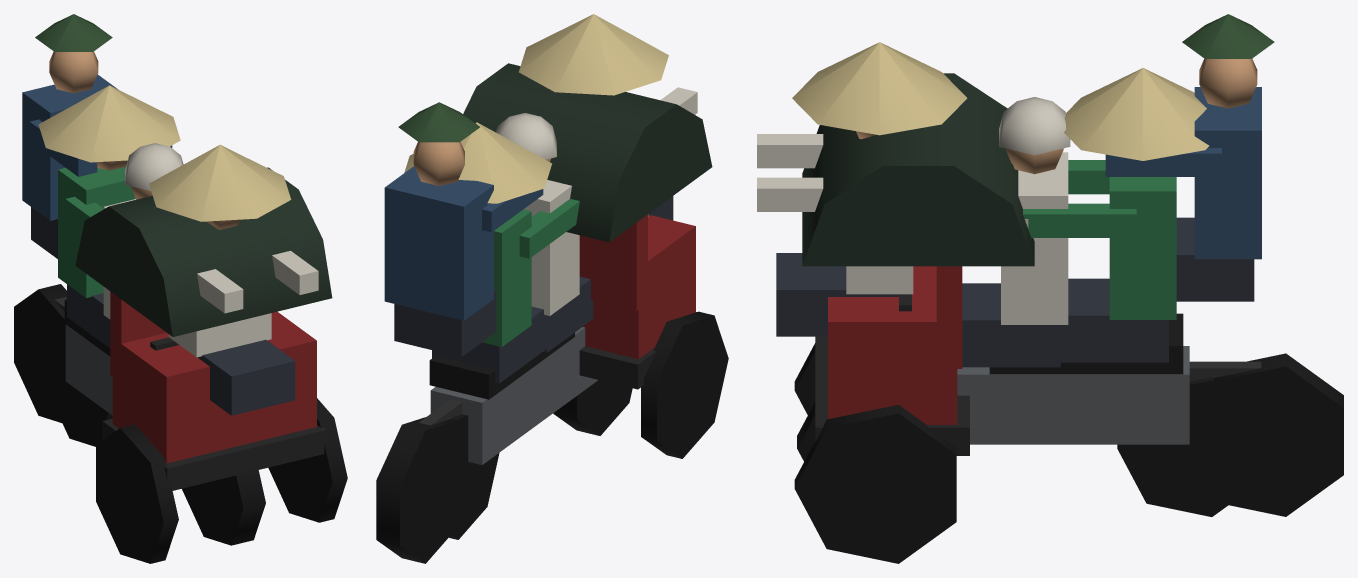
Rendered from hanoi_traffic.glb.
3 views of the same model, side by side, from view 1: azimuth 30°, elevation 25°; view 2: azimuth 150°, elevation 25°; view 3: azimuth 270°, elevation 25° (orthographic). The views are drawn at different scales.
Visible parts, largest first — view 1: HanoiTraffic_mat0; view 2: HanoiTraffic_mat0; view 3: HanoiTraffic_mat0.
Part boxes in pixels (x1,y1,x2,y2): HanoiTraffic_mat0: (14, 14, 347, 563); HanoiTraffic_mat0: (376, 14, 728, 563); HanoiTraffic_mat0: (757, 14, 1343, 563).
Size of the model in its own units: 0.98 by 2.12 by 2.27.
